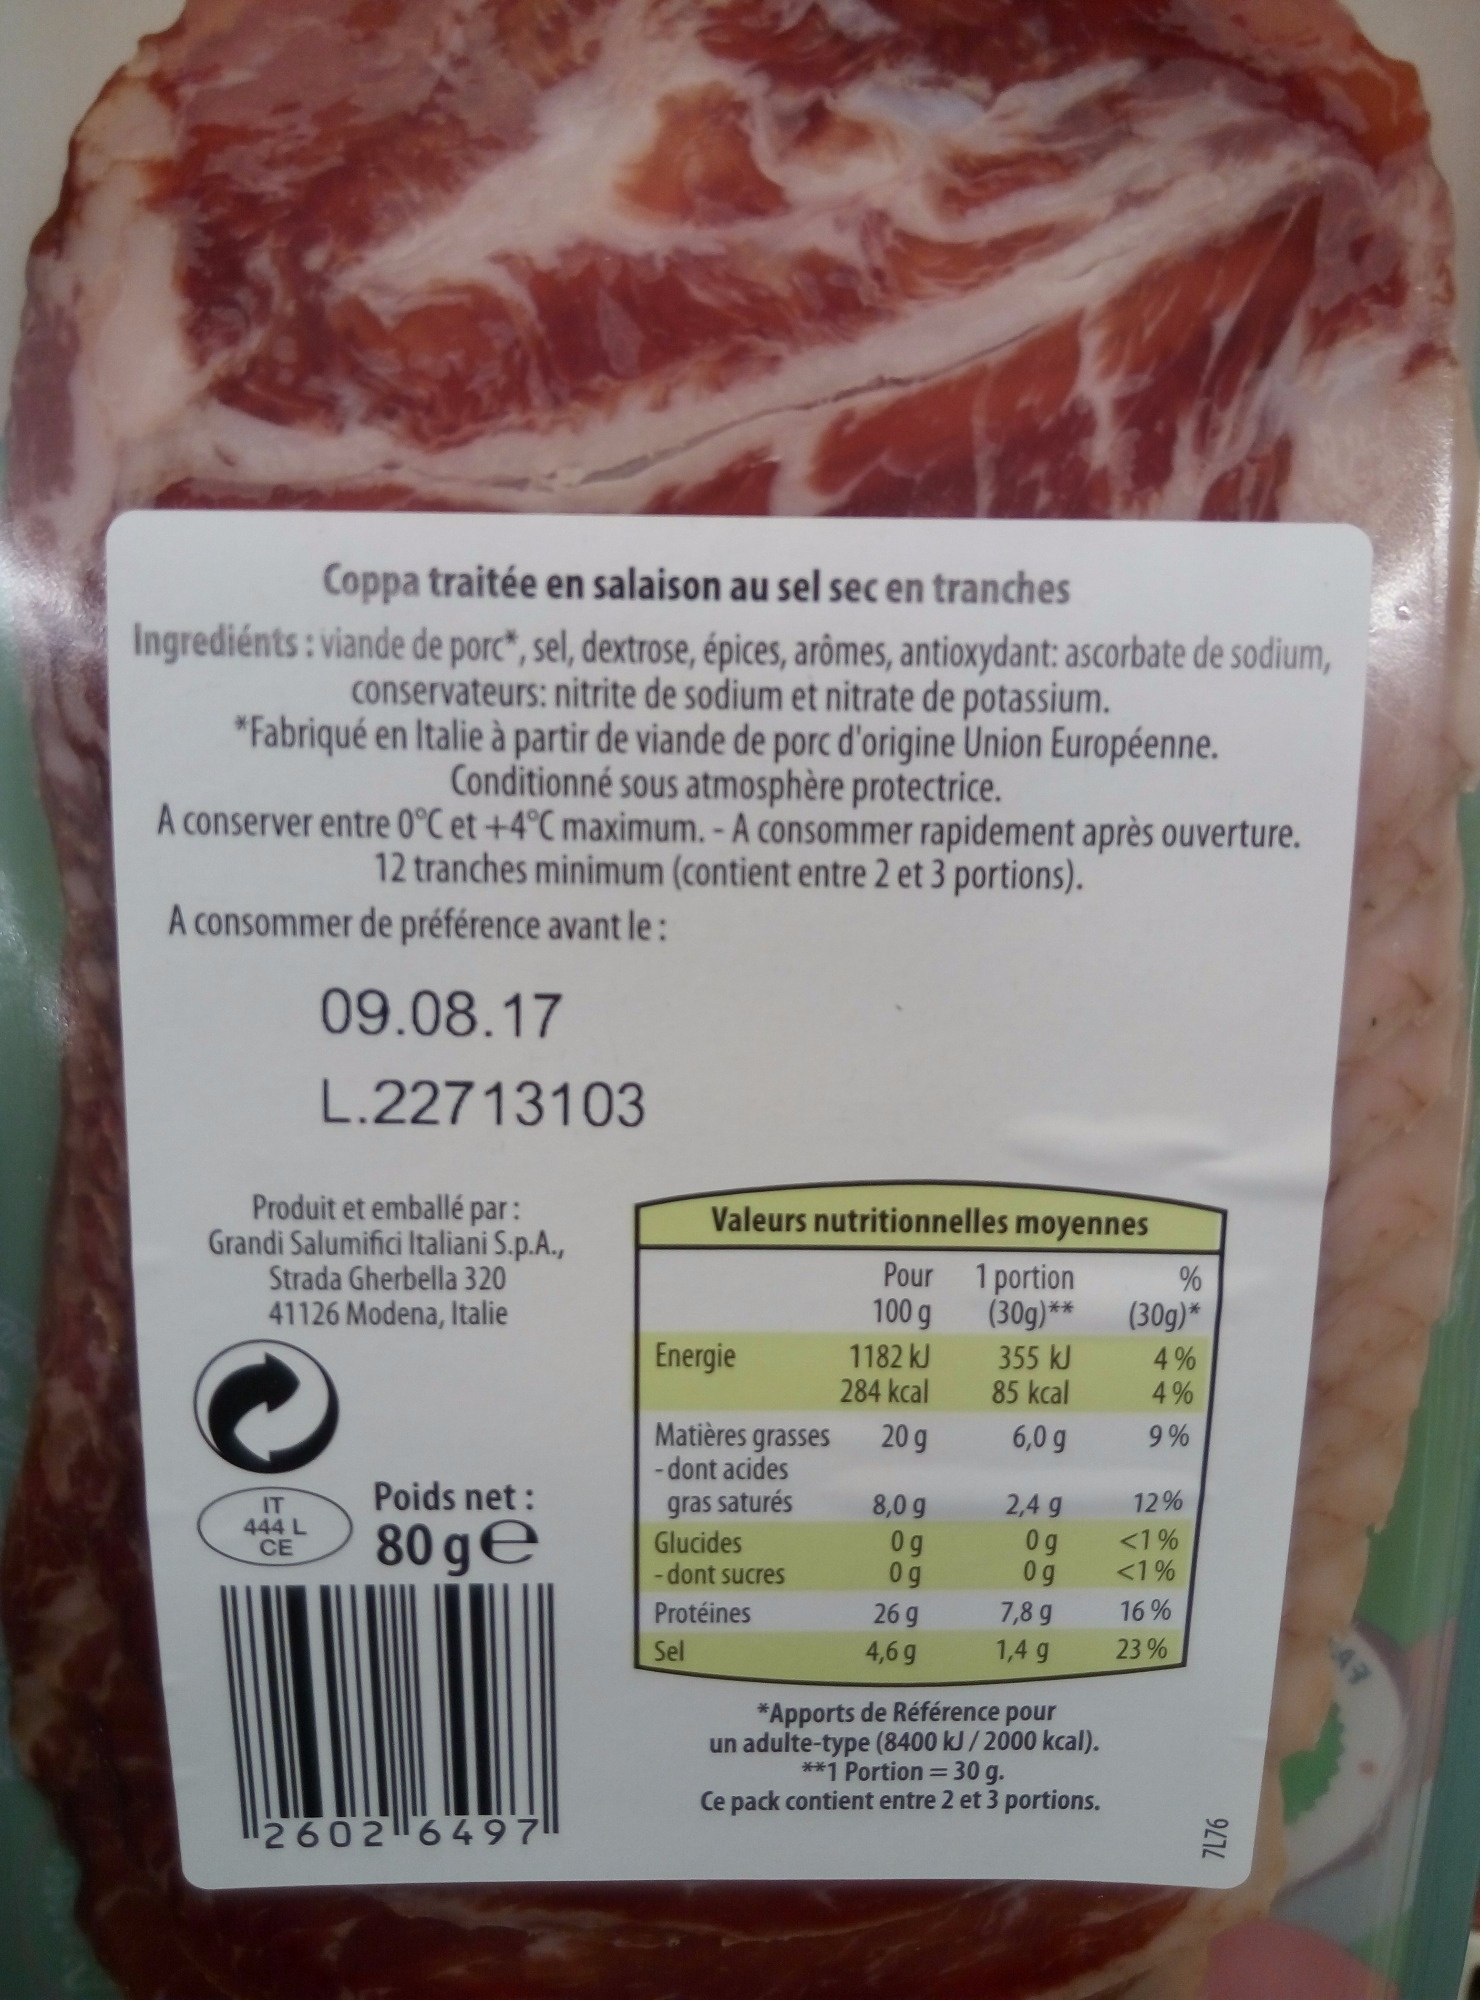column: (648, 1340, 832, 1669), (975, 1262, 1079, 1664), (839, 1260, 933, 1664), (1115, 1263, 1205, 1661)
table: (627, 1173, 1227, 1689)
